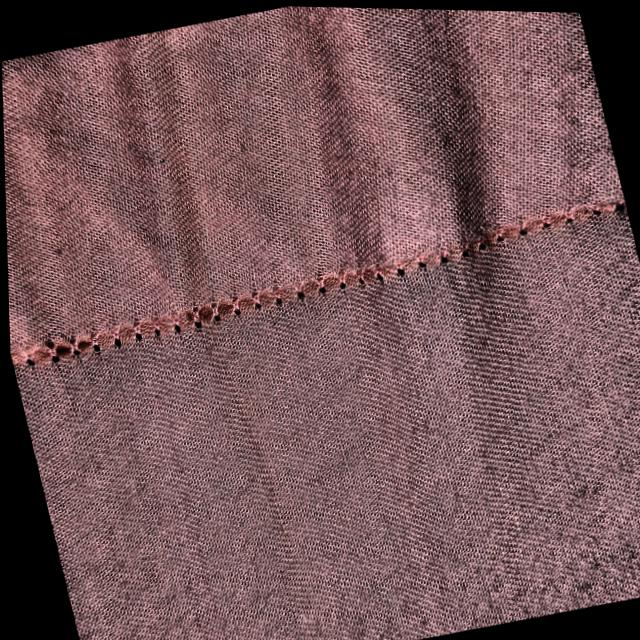seam: (18, 258, 290, 393)
